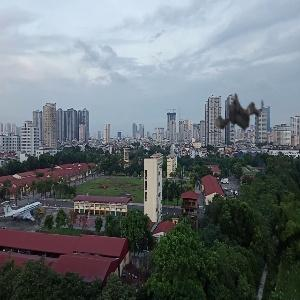drone: (211, 94, 273, 156)
